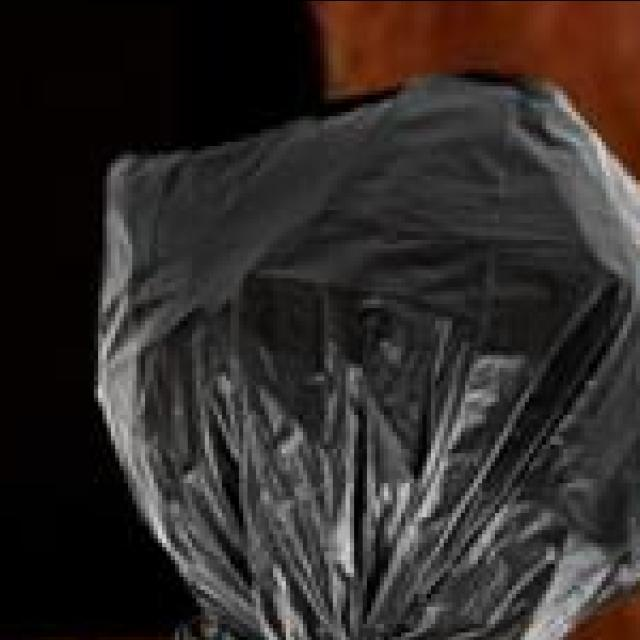Trashbag: (62, 155, 640, 608)
